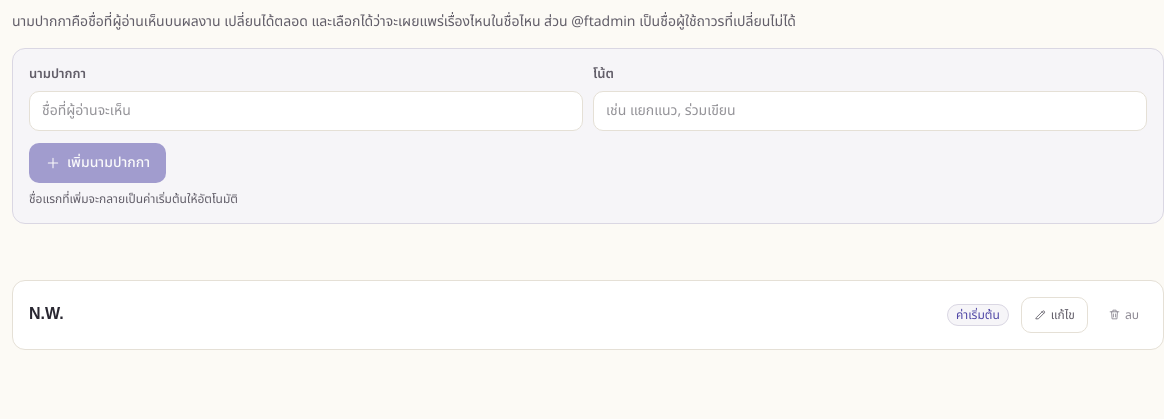
Test: the pen names panel › refuses a duplicate before it reaches the API
The width and height of the screenshot is (1164, 419).
Type "n.w." into the field labelled "นามปากกา" at coordinates (306, 110), box x1=29 y1=90 x2=583 y2=130
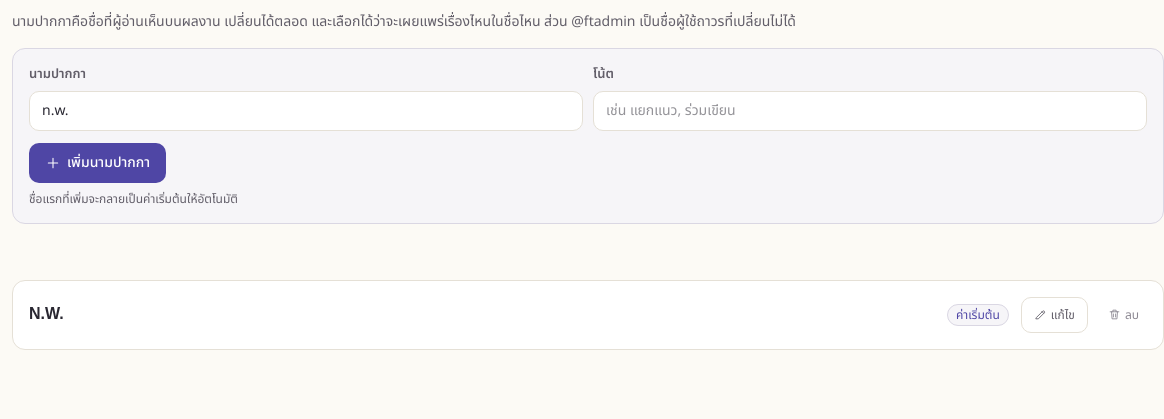
Click the button "เพิ่มนามปากกา" at coordinates (98, 162), box x1=29 y1=142 x2=166 y2=182
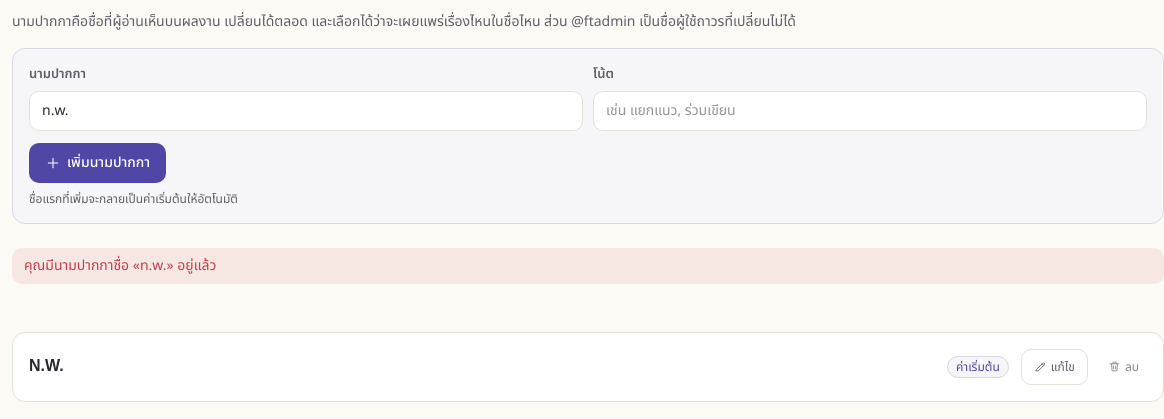
expect the message "คุณมีนามปากกาชื่อ «n.w.» อยู่แล้ว" is shown: met, box x1=12 y1=248 x2=1163 y2=284
